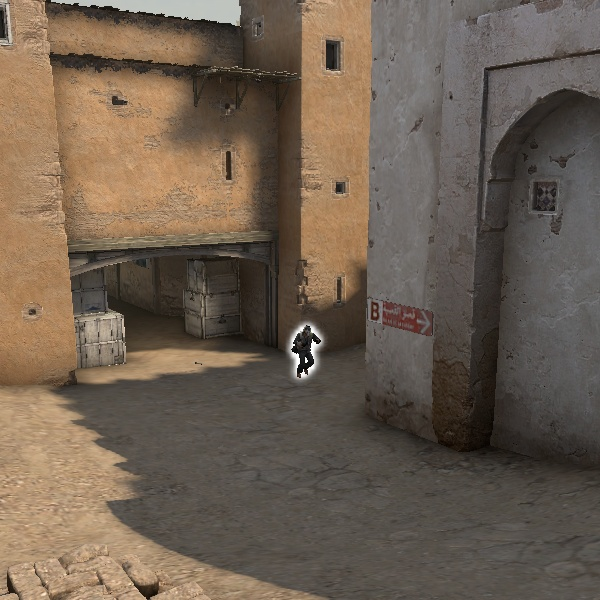ct_body: (288, 322, 320, 378)
